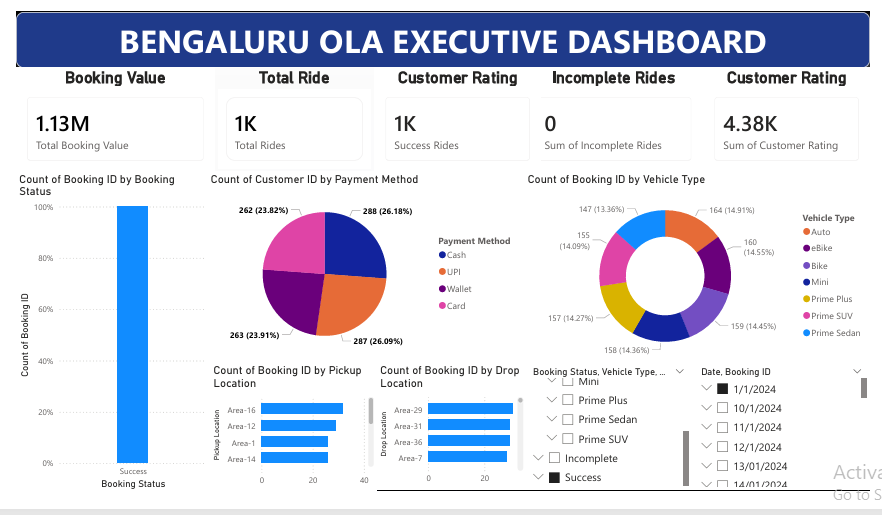

The dashboard page shown, as its layout file describes it:
{"tool":"powerbi","page":{"name":"Page 1","canvas":[1280,720],"ordinal":0},"visuals":[{"type":"actionButton","box":[0,0,100,40],"z":0},{"type":"textbox","box":[0,0,1280.2,83.5],"z":1000},{"type":"cardVisual","title":"Incomplete Rides","fields":{"Data":["Sum(_Bengaluru Ola.Incomplete Rides)"]},"box":[761.6,83.6,267.6,156.6],"z":3000},{"type":"cardVisual","title":"Total Ride","fields":{"Data":["_Bengaluru Ola.Total Rides"]},"box":[298.1,83.5,239,157],"z":4000},{"type":"cardVisual","title":"Booking Value","fields":{"Data":["_Bengaluru Ola.Total Booking Value"]},"box":[0,83.5,298.1,157],"z":5000},{"type":"cardVisual","title":"Customer Rating","fields":{"Data":["Sum(_Bengaluru Ola.Customer Rating)"]},"box":[1029.6,83.5,250.6,157],"z":6000},{"type":"hundredPercentStackedColumnChart","fields":{"Category":["_Bengaluru Ola.Booking Status"],"Y":["CountNonNull(_Bengaluru Ola.Booking ID)"]},"box":[0,240.5,290.9,479.5],"z":7000},{"type":"donutChart","fields":{"Category":["_Bengaluru Ola.Vehicle Type"],"Y":["CountNonNull(_Bengaluru Ola.Booking ID)"]},"box":[761.8,240.5,518.4,292.3],"z":8000},{"type":"pieChart","fields":{"Category":["_Bengaluru Ola.Payment Method"],"Y":["CountNonNull(_Bengaluru Ola.Customer ID)"]},"box":[286.6,240.5,475.2,286.6],"z":9000},{"type":"slicer","fields":{"Values":["_Bengaluru Ola.Date","_Bengaluru Ola.Booking ID"]},"box":[1014.1,526.8,266.3,190.2],"z":10000},{"type":"slicer","fields":{"Values":["_Bengaluru Ola.Booking Status","_Bengaluru Ola.Vehicle Type","_Bengaluru Ola.Date"]},"box":[761.8,527,252,190.1],"z":11000},{"type":"clusteredBarChart","fields":{"Category":["_Bengaluru Ola.Pickup Location"],"Y":["CountNonNull(_Bengaluru Ola.Booking ID)"]},"box":[290.9,527,250.6,193],"z":12000},{"type":"clusteredBarChart","fields":{"Category":["_Bengaluru Ola.Drop Location"],"Y":["CountNonNull(_Bengaluru Ola.Booking ID)"]},"box":[541.4,527,223.2,190.1],"z":13000},{"type":"cardVisual","title":"Customer Rating","fields":{"Data":["_Bengaluru Ola.Success Rides"]},"box":[536.6,83.6,250.8,156.6],"z":13001}]}

Visuals, with their boxes on the page's 1280x720 design canvas (x1, y1, x2, y2). These are canvas units, not pixel positions in the 882x515 screenshot, which may show the page scaled, cropped or inside an application window:
actionButton: 0,0,100,40
textbox: 0,0,1280,84
"Incomplete Rides" cardVisual: 762,84,1029,240
"Total Ride" cardVisual: 298,84,537,240
"Booking Value" cardVisual: 0,84,298,240
"Customer Rating" cardVisual: 1030,84,1280,240
hundredPercentStackedColumnChart - _Bengaluru Ola.Booking Status x CountNonNull(_Bengaluru Ola.Booking ID): 0,240,291,720
donutChart - _Bengaluru Ola.Vehicle Type x CountNonNull(_Bengaluru Ola.Booking ID): 762,240,1280,533
pieChart - _Bengaluru Ola.Payment Method x CountNonNull(_Bengaluru Ola.Customer ID): 287,240,762,527
slicer - _Bengaluru Ola.Date x _Bengaluru Ola.Booking ID: 1014,527,1280,717
slicer - _Bengaluru Ola.Booking Status x _Bengaluru Ola.Vehicle Type: 762,527,1014,717
clusteredBarChart - _Bengaluru Ola.Pickup Location x CountNonNull(_Bengaluru Ola.Booking ID): 291,527,542,720
clusteredBarChart - _Bengaluru Ola.Drop Location x CountNonNull(_Bengaluru Ola.Booking ID): 541,527,765,717
"Customer Rating" cardVisual: 537,84,787,240
